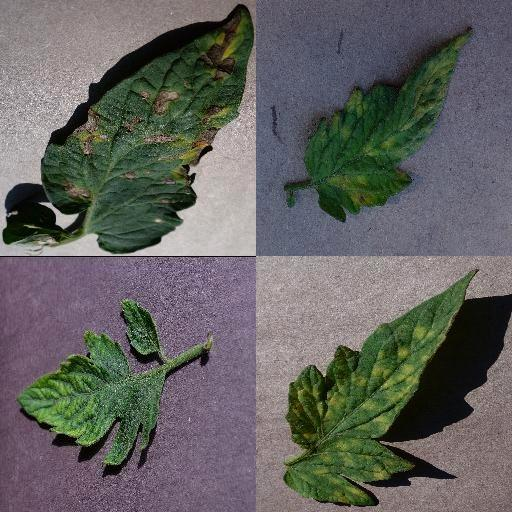Early Blight: (38, 4, 252, 252)
Leaf Mold: (283, 271, 479, 507), (307, 24, 472, 226)
Mosaic Virus: (17, 300, 167, 464)
